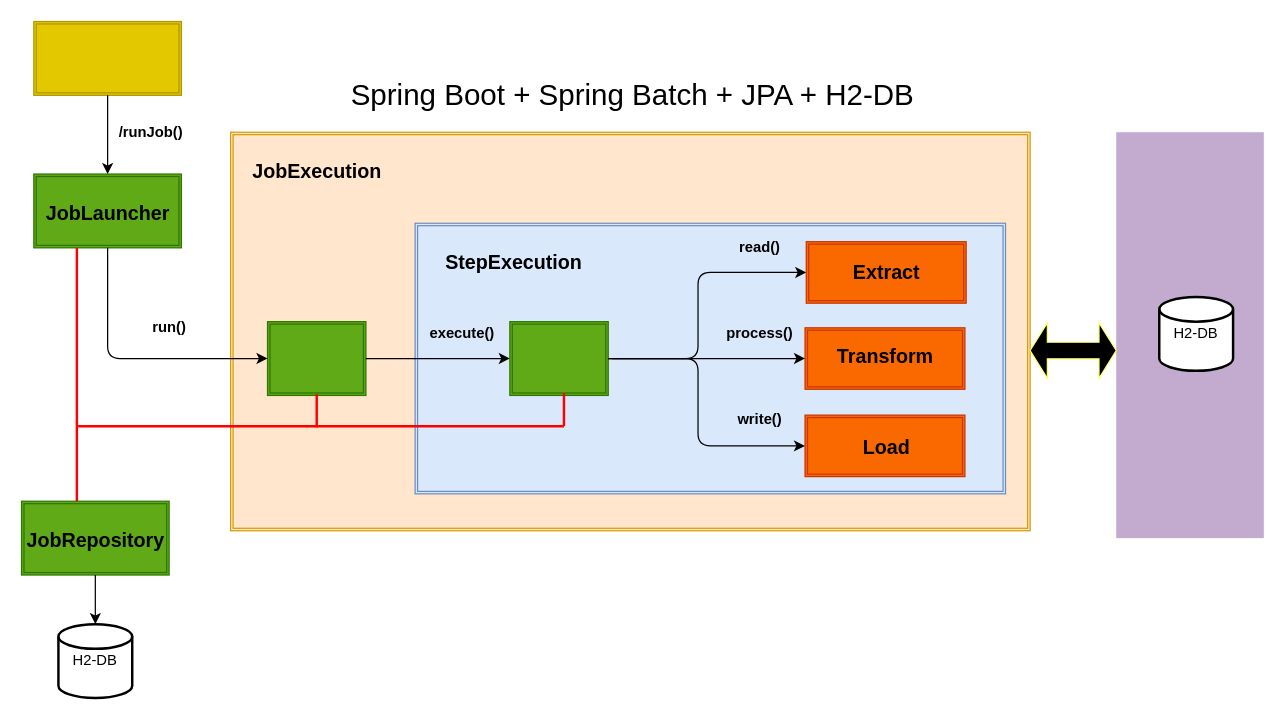
Some shapes in this 1285 by 721 pixel diagram are drawn without their labels. Here are the shapes that lost their labels. From the top down, the box of each, then its label:
(33, 20, 181, 95): RestController
(266, 320, 366, 395): Job
(509, 320, 608, 395): Step
